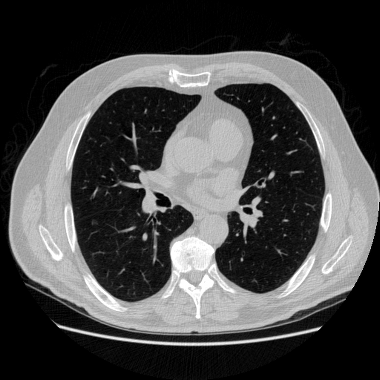nodule: (92, 220, 96, 224)
